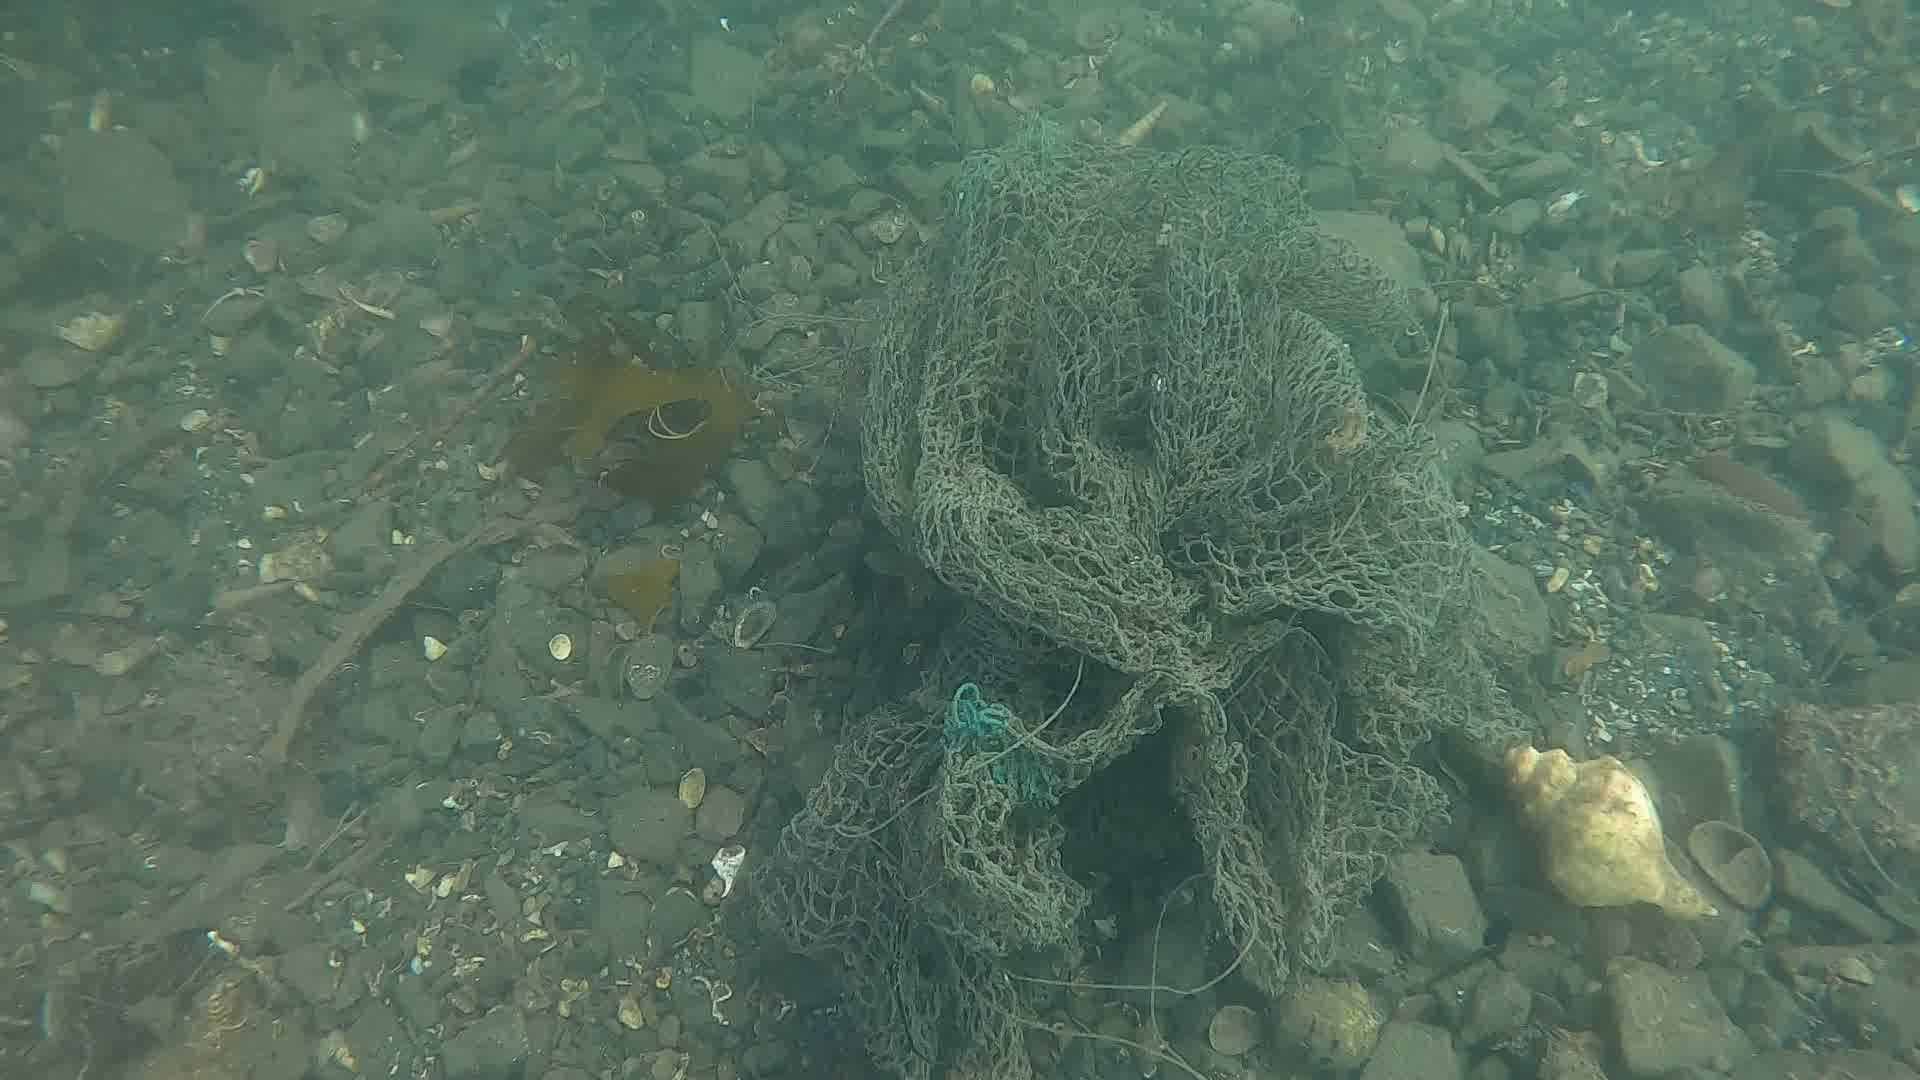fish net: (746, 142, 1469, 1080)
